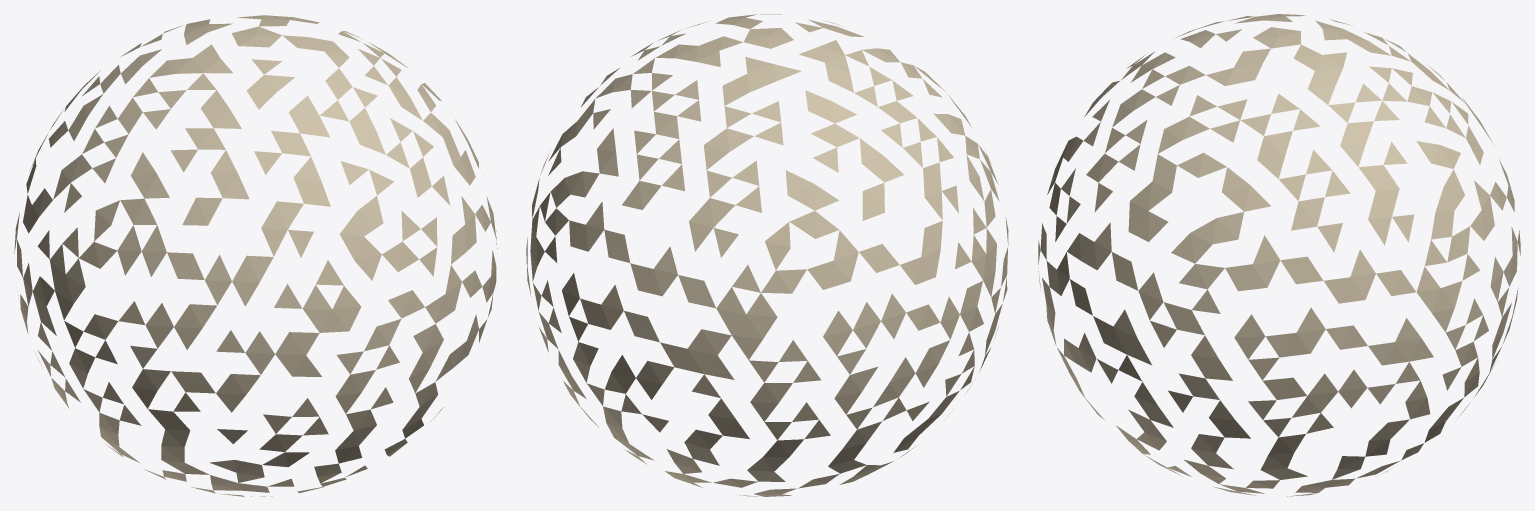
The model's file is toy_marble_a05.glb.
3 views of the same model, side by side, from view 1: azimuth 30°, elevation 25°; view 2: azimuth 150°, elevation 25°; view 3: azimuth 270°, elevation 25° (orthographic).
Parts seen in each view (by area): view 1: geometry_0; view 2: geometry_0; view 3: geometry_0.
Boxes of the visible parts, x1=… form: geometry_0: x1=14, y1=15, x2=497, y2=496; geometry_0: x1=526, y1=14, x2=1008, y2=496; geometry_0: x1=1038, y1=14, x2=1520, y2=496.
Bounding box in the file's own units: 0.48 × 0.4785 × 0.479.
